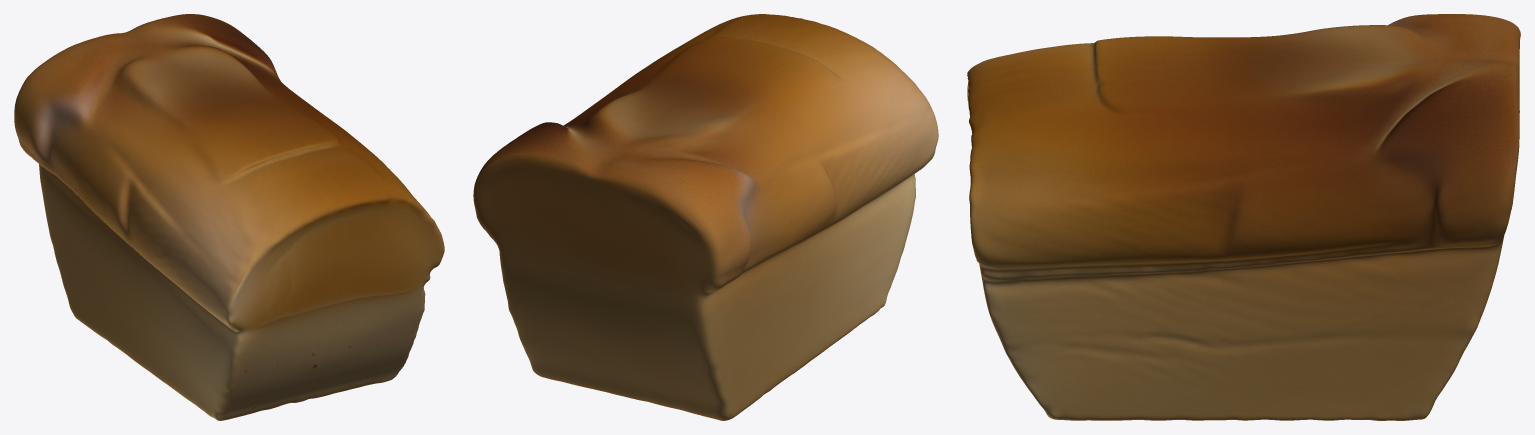
The model's file is bread slice 3d model.glb.
The picture shows the model from 3 angles, left to right: view 1: azimuth 30°, elevation 25°; view 2: azimuth 150°, elevation 25°; view 3: azimuth 270°, elevation 25°; orthographic projection. The views are drawn at different scales.
Parts seen in each view (by area): view 1: tripo_node_eba38742; view 2: tripo_node_eba38742; view 3: tripo_node_eba38742.
Part boxes in pixels (x1,y1,x2,y2): tripo_node_eba38742: (14,14,444,420); tripo_node_eba38742: (473,14,938,420); tripo_node_eba38742: (967,14,1520,420).
Size of the model in its own units: 0.6225 by 0.6148 by 0.9802.
1 material, 1 textured.
